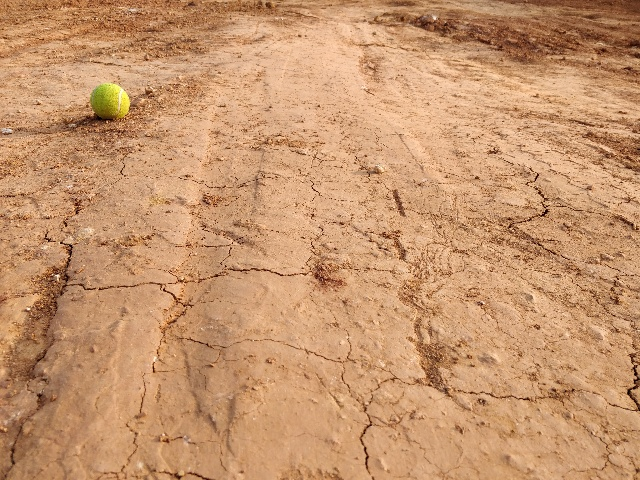ball: (83, 81, 141, 126)
